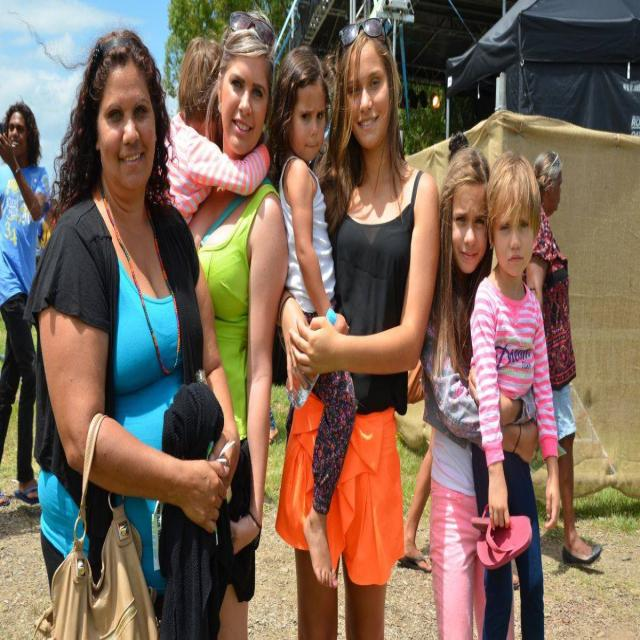body: (18, 24, 242, 639), (274, 10, 442, 639), (188, 7, 290, 638), (417, 144, 541, 639), (267, 44, 359, 590), (466, 149, 563, 640), (523, 148, 604, 569), (0, 99, 51, 514), (164, 34, 268, 229), (400, 380, 434, 582), (40, 199, 66, 245), (446, 130, 472, 160)
